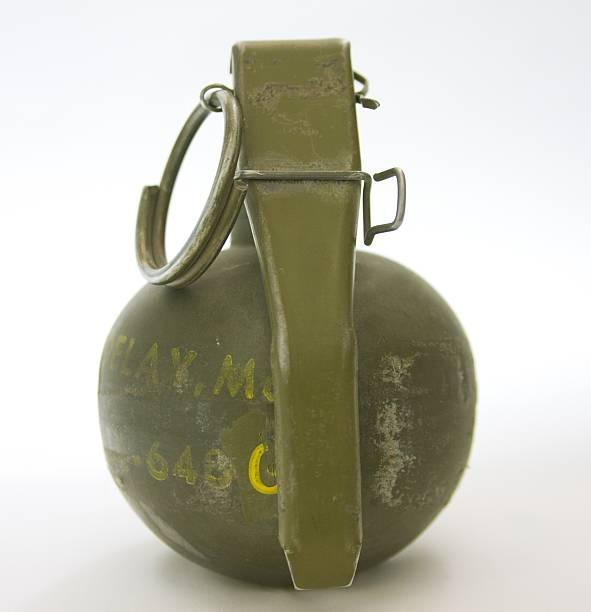Grenade: (94, 36, 478, 592)
